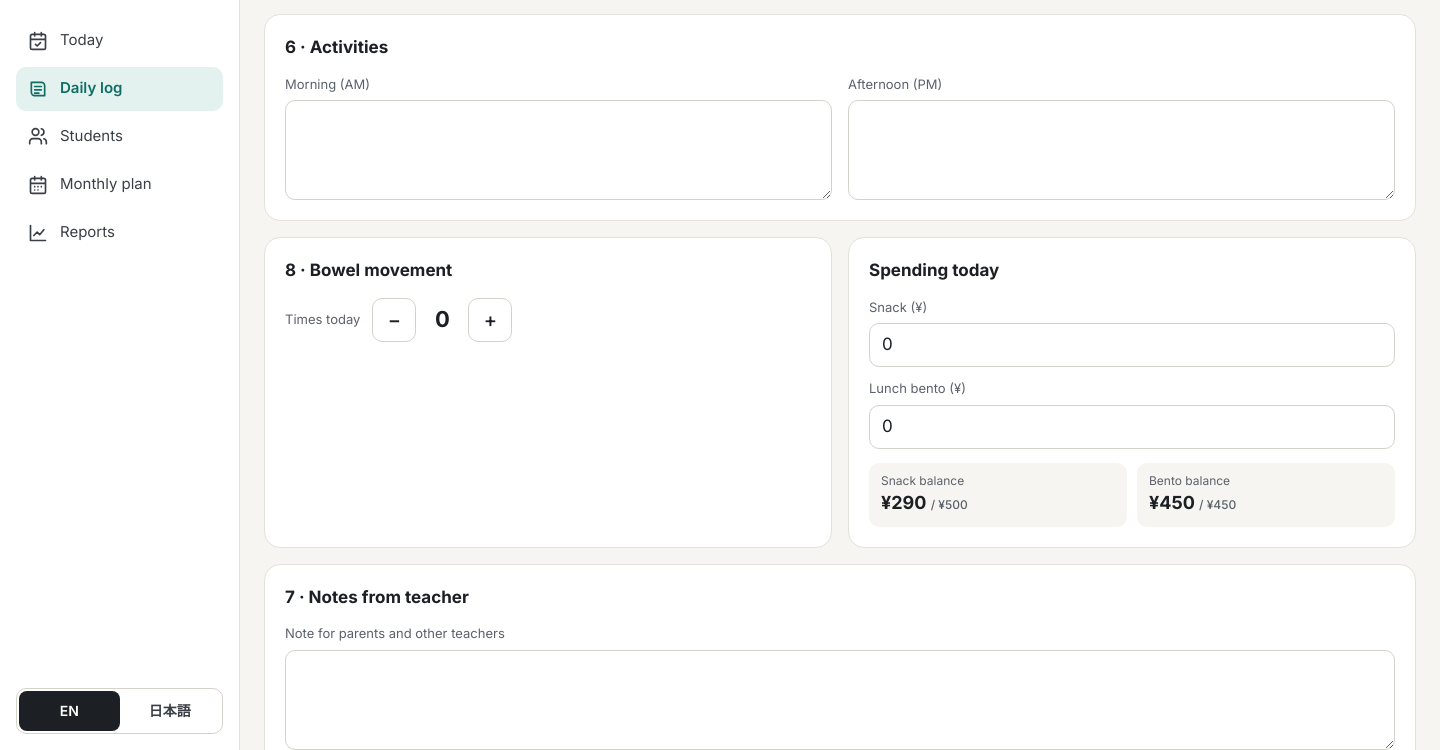
Test: Daily log › updates the balance live and warns below zero
(page scrolled)
Replace the text in the number field labelled "Snack (¥)" with "5000". click: [1132, 345]
box: [869, 323, 1395, 367]
(page scrolled)
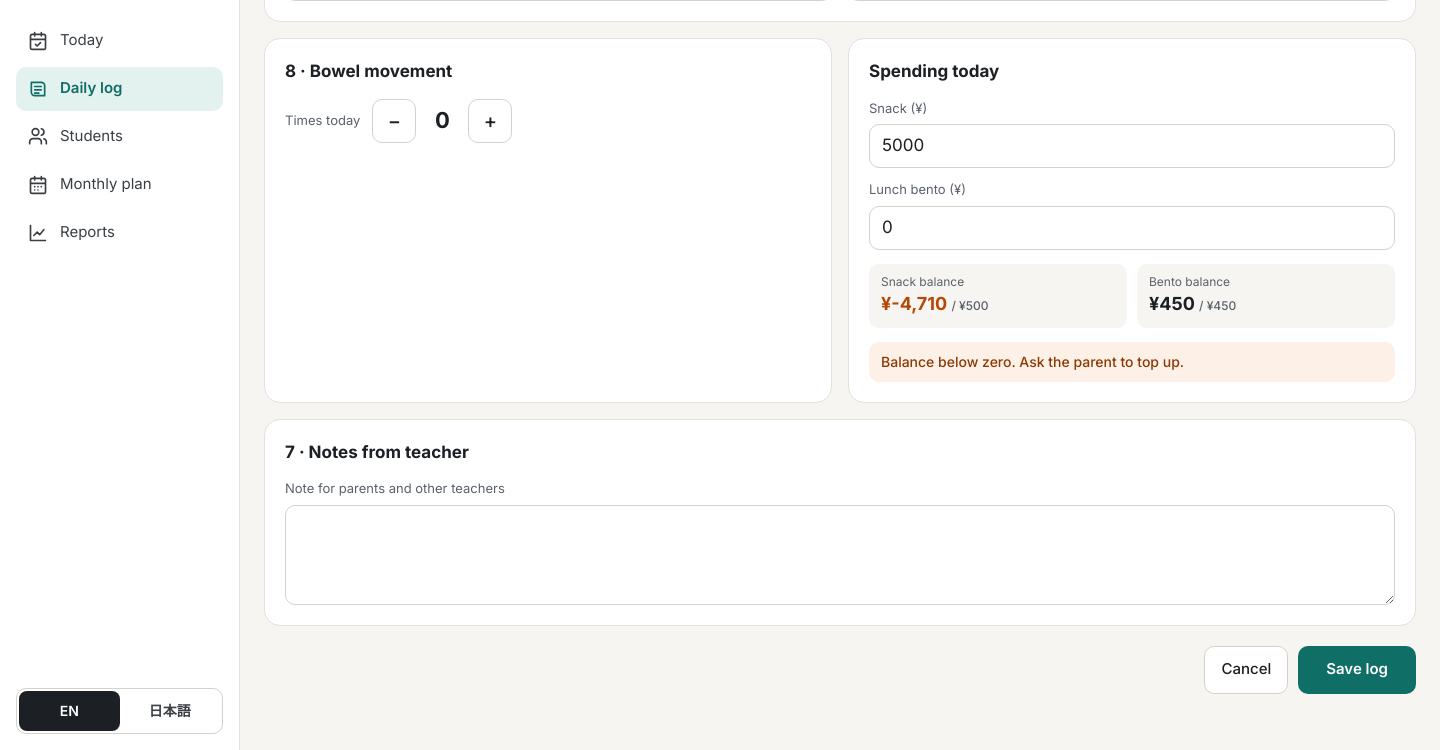
Expected: the button "Save log" is enabled, [1298, 646, 1416, 694]
Now the text "Balance below zero. Ask the parent to top up." is shown, box [869, 342, 1395, 382]
